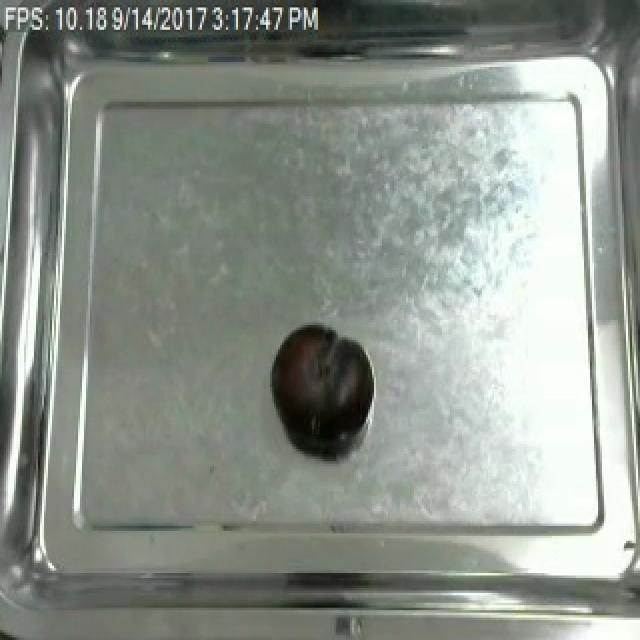Fruit: (266, 322, 360, 442)
